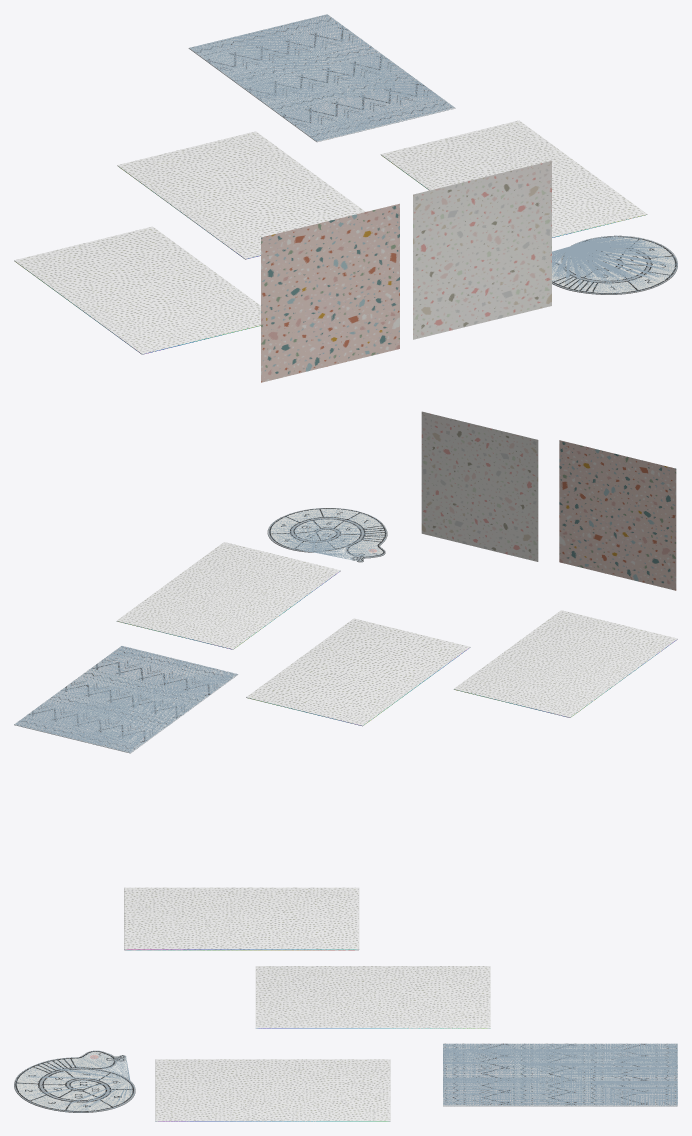
Rendered from Furniture-24.fbx.
3 views of the same model, one above another, from view 1: azimuth 30°, elevation 25°; view 2: azimuth 150°, elevation 25°; view 3: azimuth 270°, elevation 25° (orthographic). The views are drawn at different scales.
Parts seen in each view (by area): view 1: PAPEL_DE_PAREDE_TERRAZZO_PINK_LEMONADE___ILUSTRADO_POR_UAU_1, PAPEL_DE_PAREDE_TERRAZZO_HELLO_NUDE___ILUSTRADO_POR_UAU_1, Componente_53_1, Componente_52_1, Componente_52_2, Componente_52_3, Group1; view 2: PAPEL_DE_PAREDE_TERRAZZO_HELLO_NUDE___ILUSTRADO_POR_UAU_1, PAPEL_DE_PAREDE_TERRAZZO_PINK_LEMONADE___ILUSTRADO_POR_UAU_1, Componente_52_1, Componente_52_2, Componente_52_3, Componente_53_1, Group1; view 3: Componente_52_1, Componente_52_3, Componente_52_2, Componente_53_1, Group1.
Boxes of the visible parts, x1,y1,x2,y2 form: PAPEL_DE_PAREDE_TERRAZZO_PINK_LEMONADE___ILUSTRADO_POR_UAU_1: (413,160,551,339); PAPEL_DE_PAREDE_TERRAZZO_HELLO_NUDE___ILUSTRADO_POR_UAU_1: (261,203,399,382); Componente_53_1: (189,14,454,141); Componente_52_1: (14,226,260,354); Componente_52_2: (117,131,365,259); Componente_52_3: (380,120,647,237); Group1: (552,235,677,294); PAPEL_DE_PAREDE_TERRAZZO_HELLO_NUDE___ILUSTRADO_POR_UAU_1: (559,440,676,590); PAPEL_DE_PAREDE_TERRAZZO_PINK_LEMONADE___ILUSTRADO_POR_UAU_1: (421,411,538,561); Componente_52_1: (453,610,677,717); Componente_52_2: (246,618,470,726); Componente_52_3: (116,542,340,649); Componente_53_1: (14,646,238,752); Group1: (268,508,387,561); Componente_52_1: (124,887,359,950); Componente_52_3: (155,1059,390,1121); Componente_52_2: (255,966,490,1028); Componente_53_1: (443,1043,677,1105); Group1: (14,1050,135,1112).
Bounding box in the file's own units: 3.76 × 1 × 4.52.
